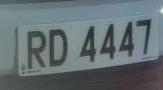4: (77, 21, 99, 67), (97, 20, 118, 63), (116, 18, 137, 59)
7: (137, 15, 156, 60)
D: (46, 26, 71, 71)
R: (21, 26, 49, 71)
